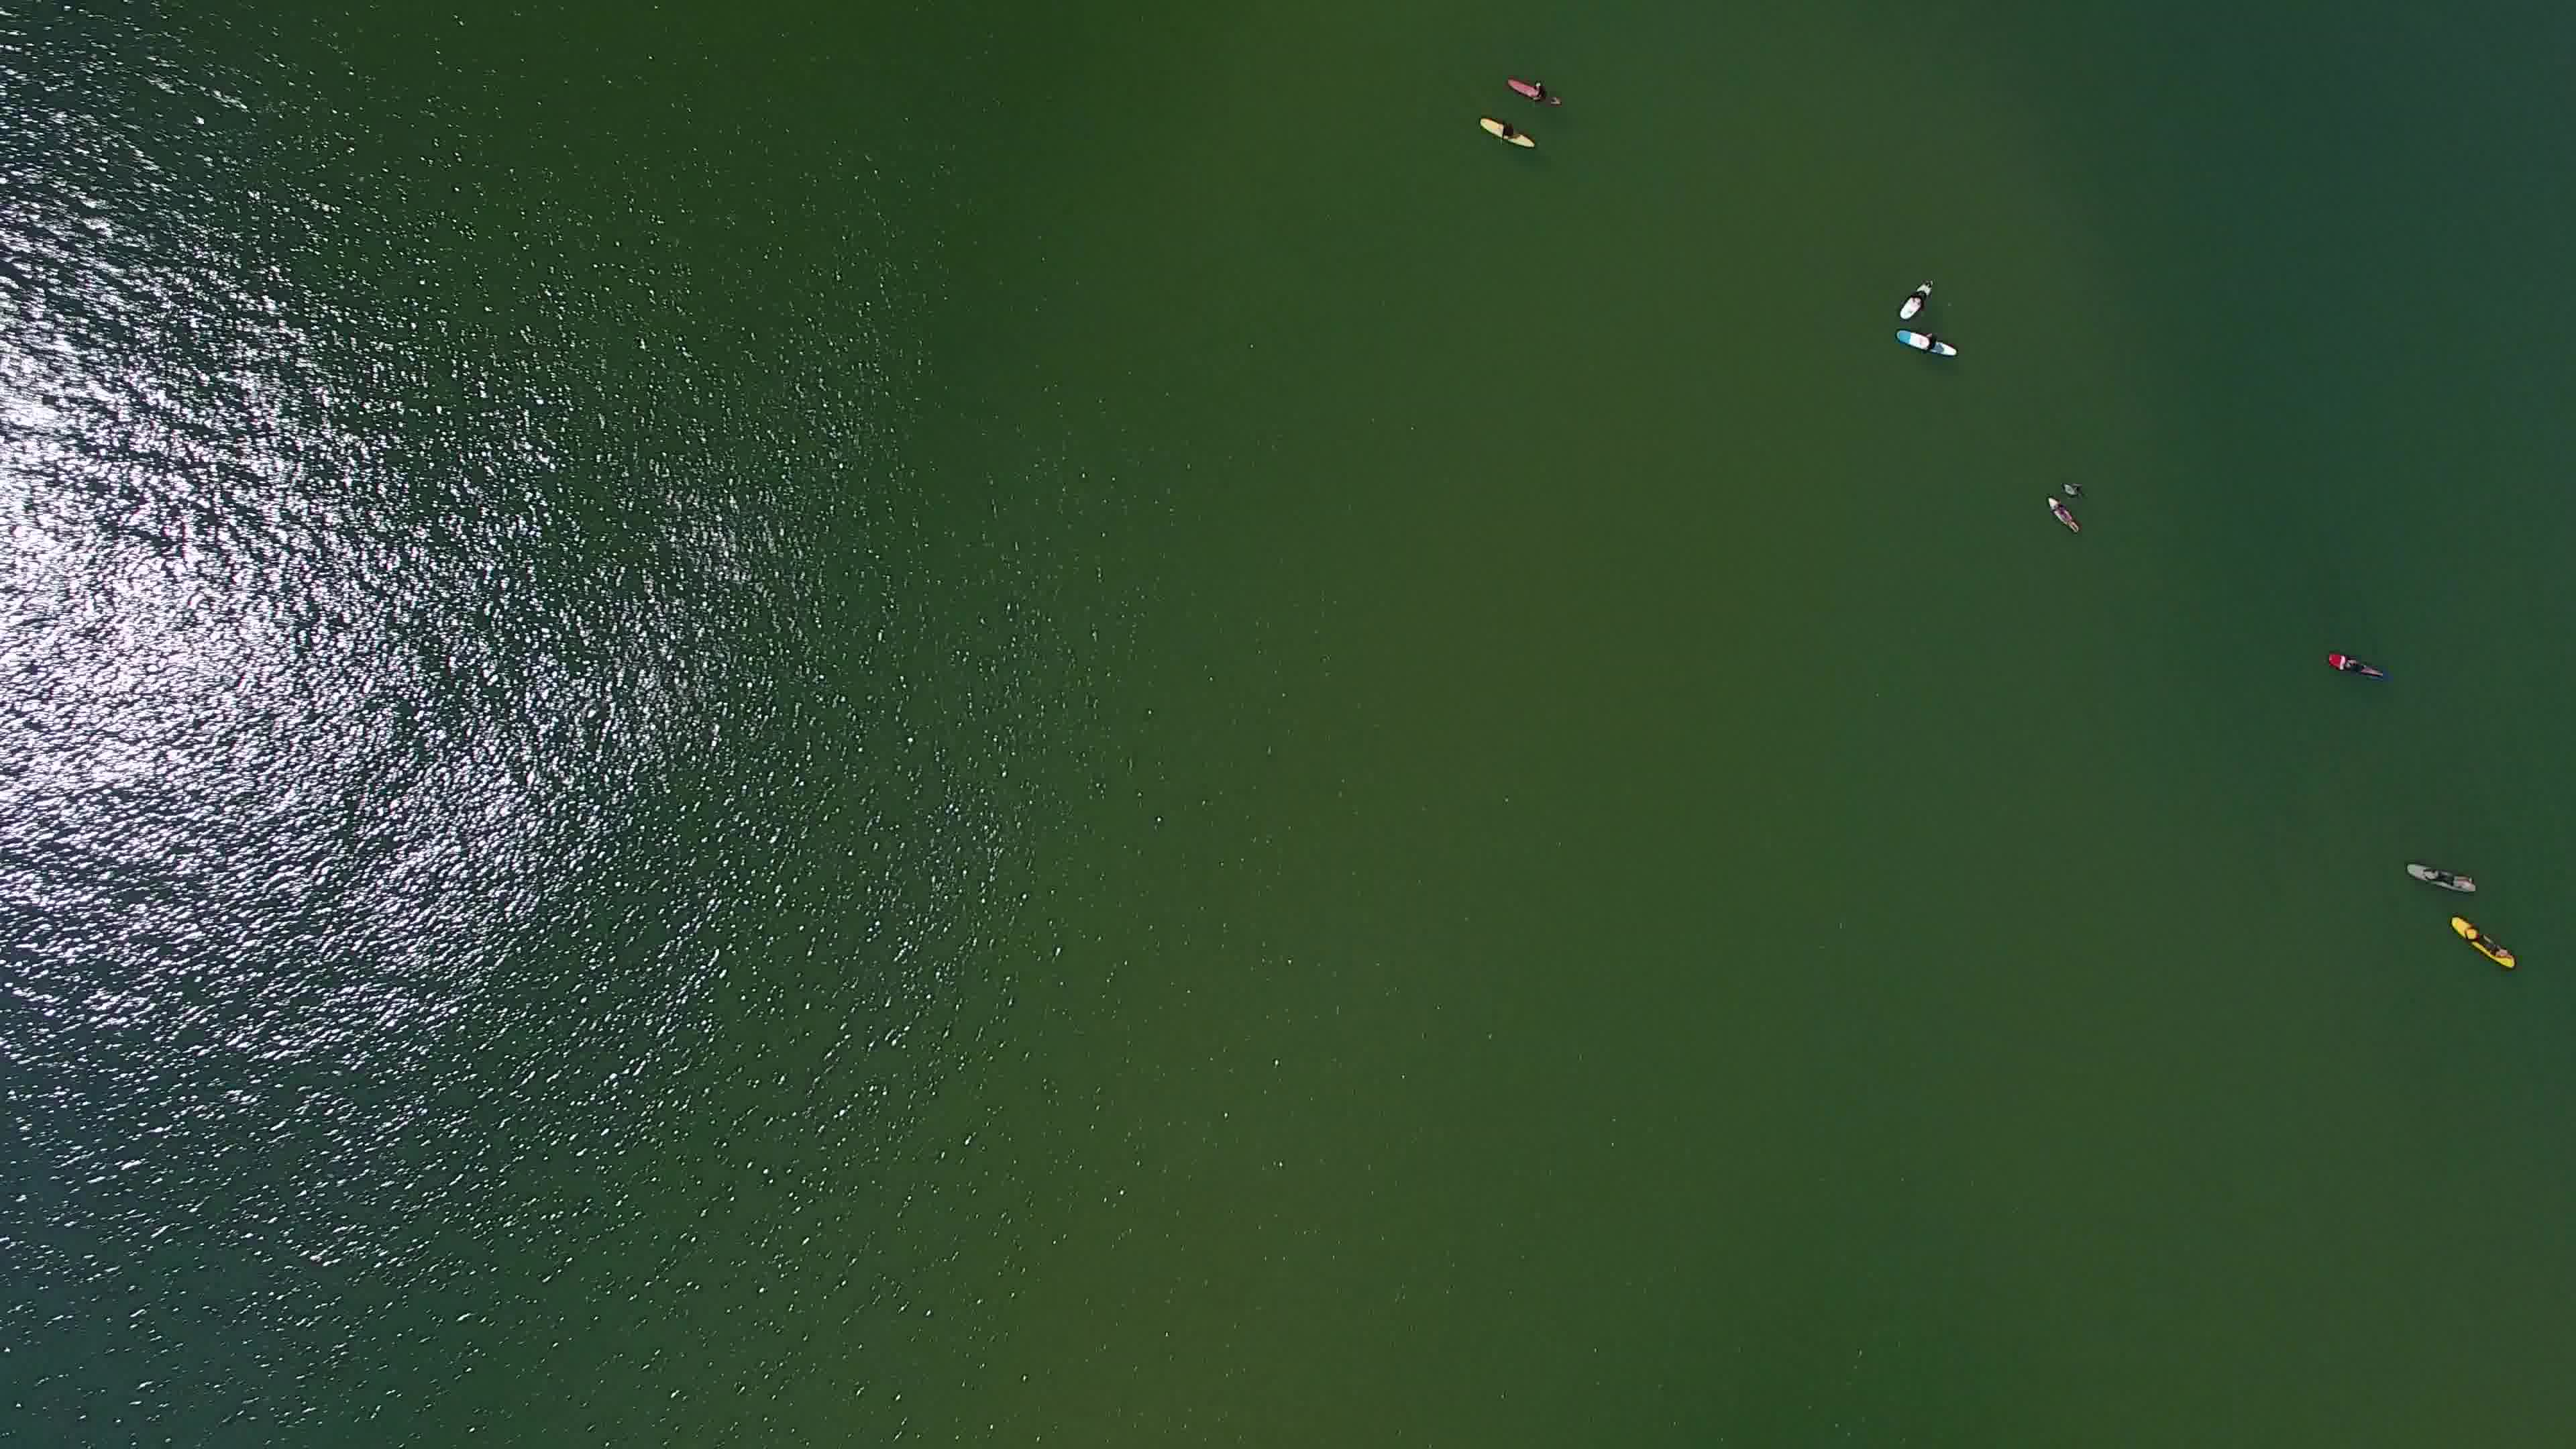surfer: (2445, 918, 2521, 978), (2399, 862, 2480, 902), (1474, 108, 1543, 156), (1502, 64, 1566, 113), (1886, 327, 1967, 364), (2323, 653, 2390, 690), (2036, 501, 2095, 543), (1891, 281, 1943, 322), (2051, 479, 2093, 502)
